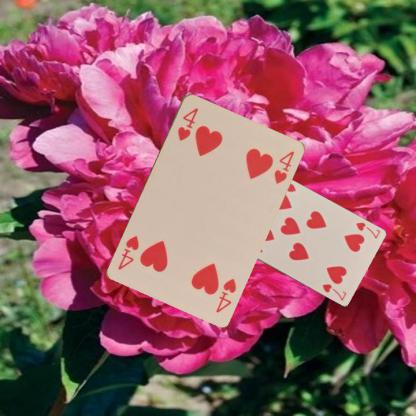4h: (212, 275, 237, 314), (174, 105, 200, 142)
7h: (353, 219, 381, 240)
